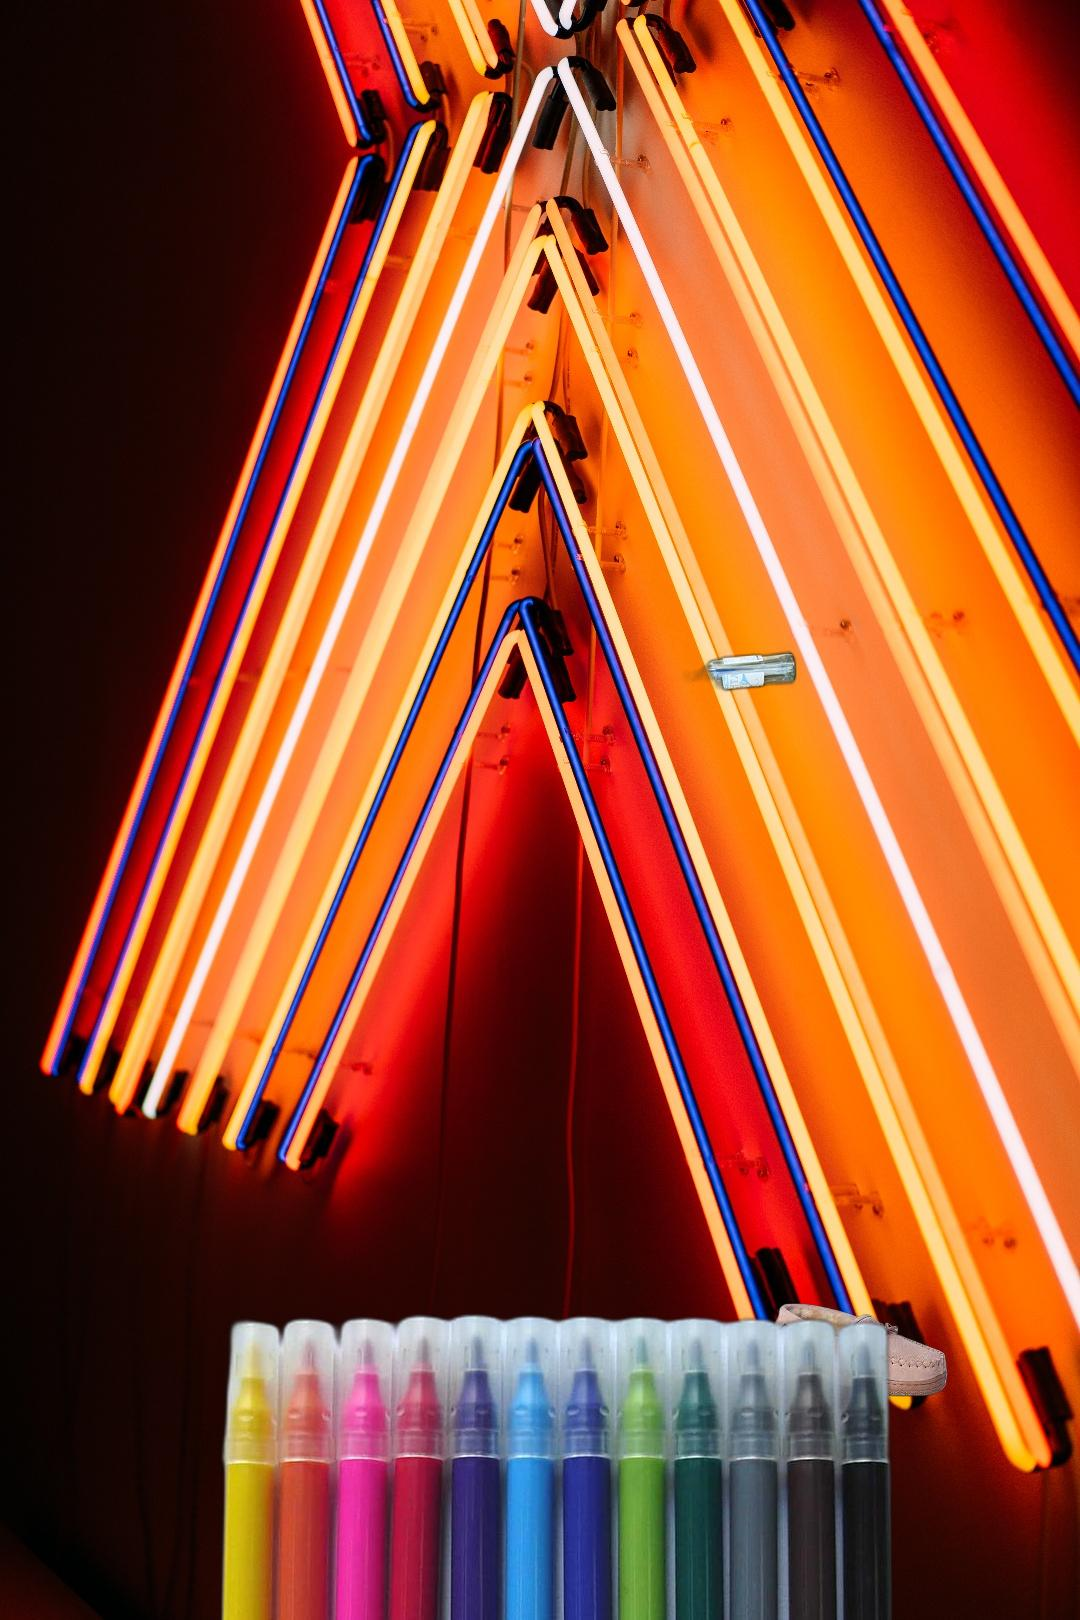glass: (432, 366, 802, 695)
penholder: (169, 1307, 969, 1620)
shoes: (764, 1301, 950, 1399)
